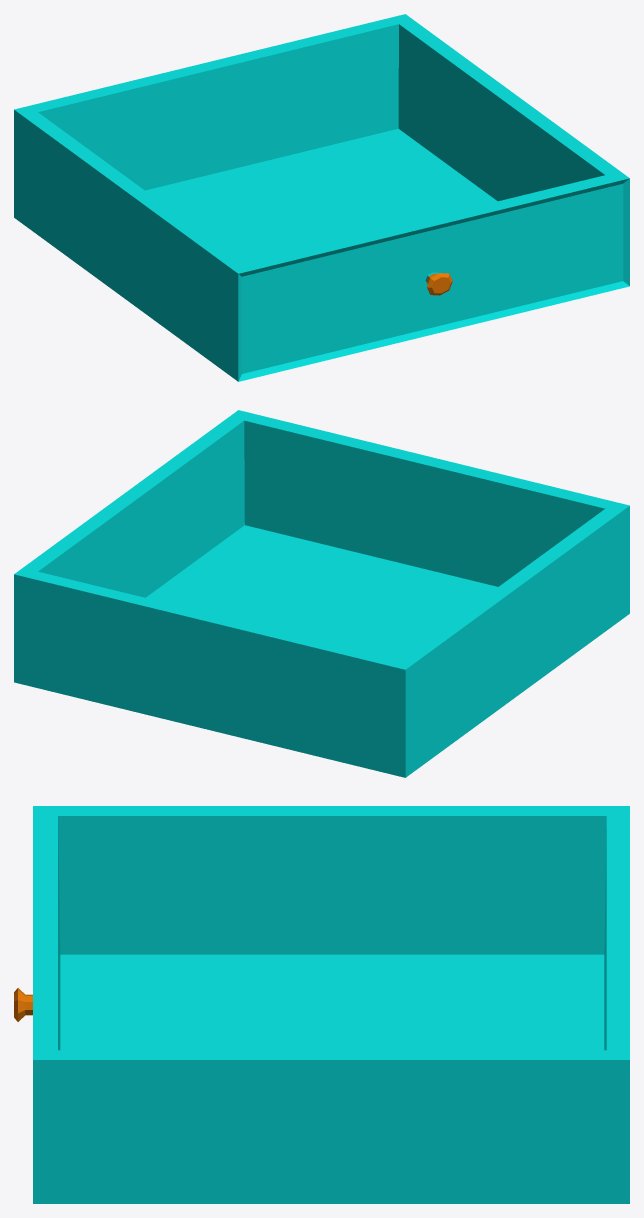
The model's file is GGJ-StudentDeskDrawer01.fbx.
3 renders of one model, top to bottom at view 1: azimuth 30°, elevation 25°; view 2: azimuth 150°, elevation 25°; view 3: azimuth 270°, elevation 25°, orthographic. The views are drawn at different scales.
Parts seen in each view (by area): view 1: StudentDeskDrawer; view 2: StudentDeskDrawer; view 3: StudentDeskDrawer.
Boxes of the visible parts, <box> form: StudentDeskDrawer: <box>14,14,629,381</box>; StudentDeskDrawer: <box>14,410,629,777</box>; StudentDeskDrawer: <box>14,806,629,1203</box>.
Bounding box in the file's own units: 174 × 178 × 45.78.
